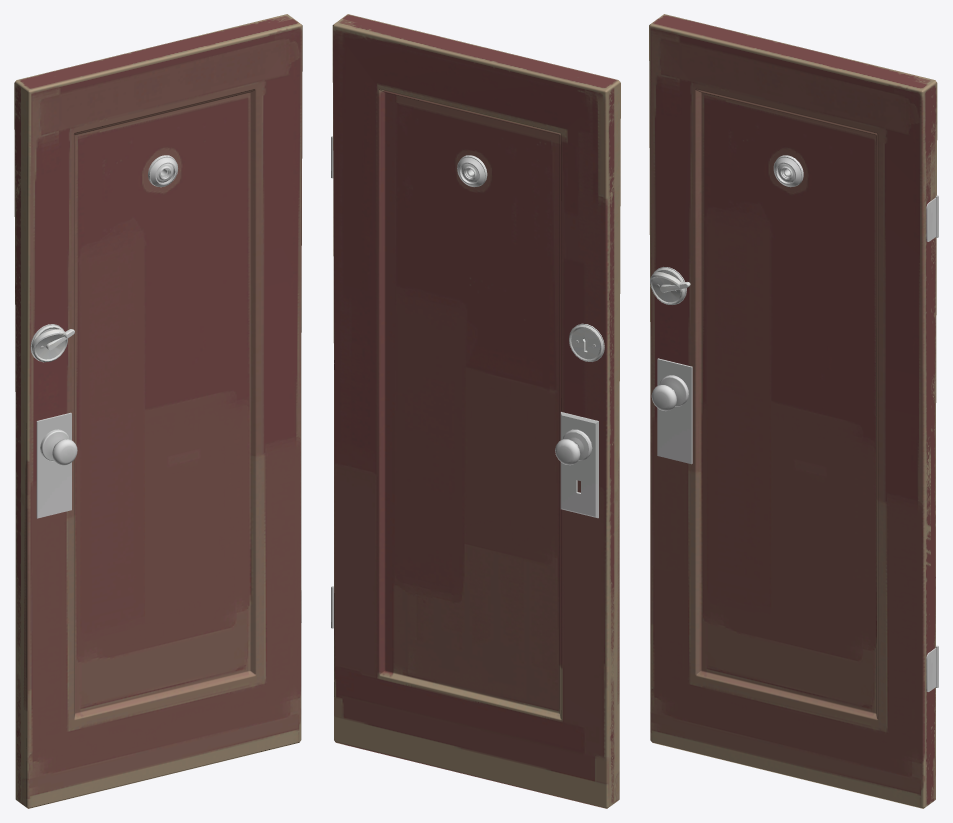
File: Obj_Door_Bone #9825.fbx
The picture shows the model from 3 angles, left to right: view 1: azimuth 30°, elevation 25°; view 2: azimuth 150°, elevation 25°; view 3: azimuth 330°, elevation 25°; orthographic projection.
Visible parts, largest first — view 1: DoorWood_A, DoorWood_B, Handle_A, Base004, Line001; view 2: DoorWood_B, DoorWood_A, Lock_B, Handle_B, Base005, Line002; view 3: DoorWood_A, DoorWood_B, Handle_A, Base004, Line001, Hinge_Bottom, Hinge_Top.
Boxes of the visible parts, box(x1,y1,x2,y2) form: DoorWood_A: box(21, 19, 302, 808); DoorWood_B: box(14, 14, 293, 803); Handle_A: box(36, 412, 77, 518); Base004: box(31, 329, 67, 362); Line001: box(150, 157, 177, 186); DoorWood_B: box(332, 19, 614, 808); DoorWood_A: box(341, 14, 620, 803); Lock_B: box(560, 412, 598, 518); Handle_B: box(555, 429, 592, 465); Base005: box(569, 325, 603, 361); Line002: box(457, 157, 484, 186); DoorWood_A: box(649, 19, 930, 808); DoorWood_B: box(658, 14, 937, 802); Handle_A: box(651, 358, 692, 464); Base004: box(650, 272, 685, 304); Line001: box(774, 157, 801, 186); Hinge_Bottom: box(926, 645, 938, 691); Hinge_Top: box(926, 195, 938, 241).
Size of the model in its own units: 0.807 by 2 by 0.2103.
4 materials, 4 textured.
